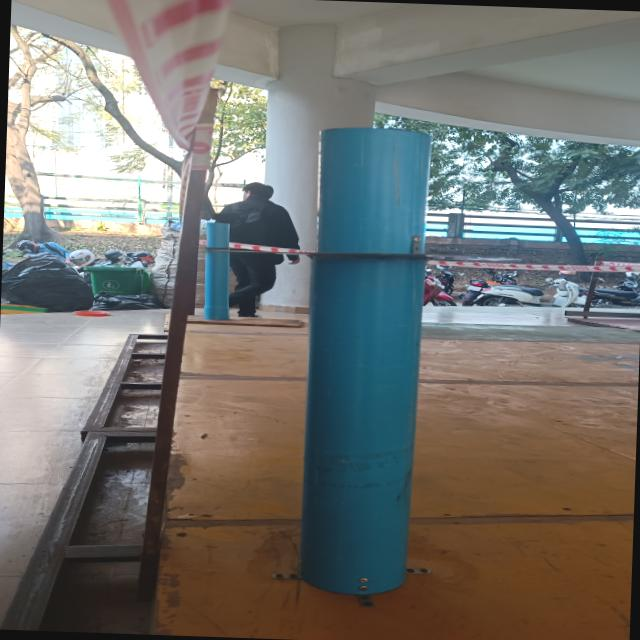pole: (197, 115, 535, 404)
